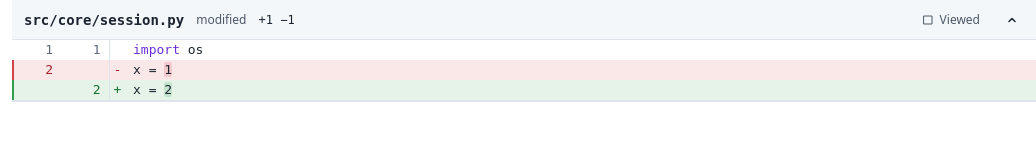
Test: a file in the review › folds the file when it is marked viewed
What coordinates should you click on to do the following:
click the checkbox with test id "viewed-toggle"
I would click on:
 (951, 20)
Its box is 914,8 -> 988,32.
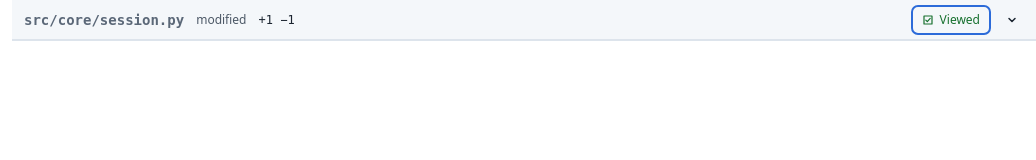
Expected: the element with test id "raw-view" is gone
